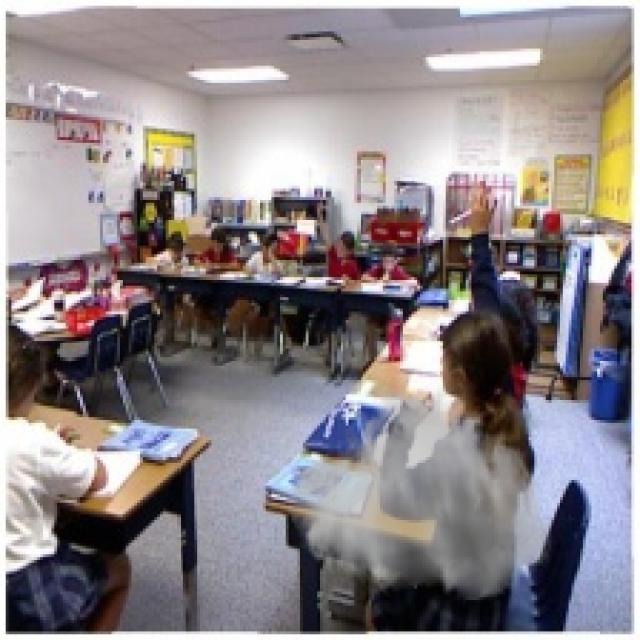smoke: (286, 380, 554, 603)
